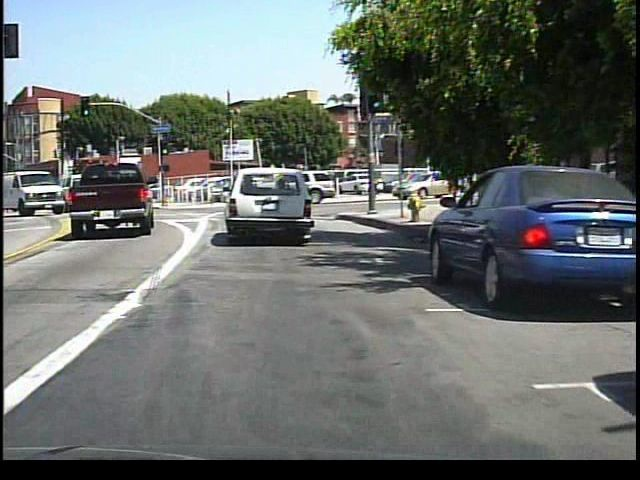person: (362, 166, 379, 201)
